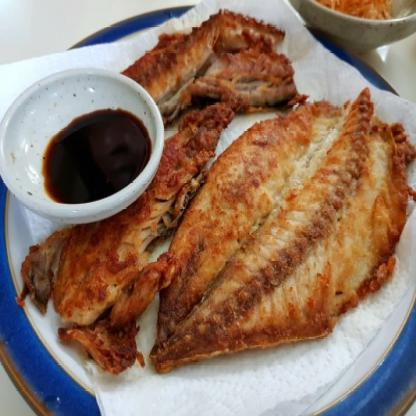Peixe: (163, 18, 416, 363)
